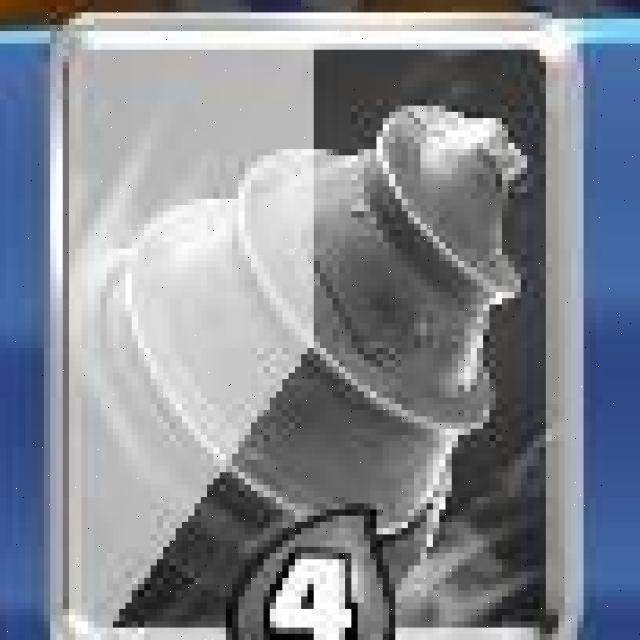Goblin_Drill: (54, 11, 583, 640)
